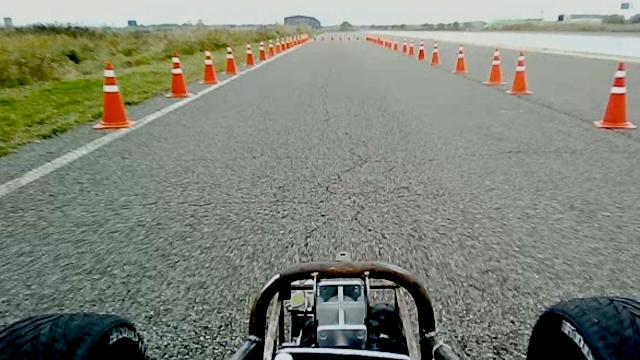red cone: (593, 61, 637, 130), (92, 62, 136, 130), (164, 51, 192, 98), (506, 50, 533, 95), (482, 46, 508, 86), (198, 49, 220, 85), (452, 44, 469, 74), (222, 46, 238, 76), (429, 41, 442, 66), (244, 42, 255, 67), (416, 40, 426, 61), (258, 40, 267, 61), (267, 38, 275, 56)
